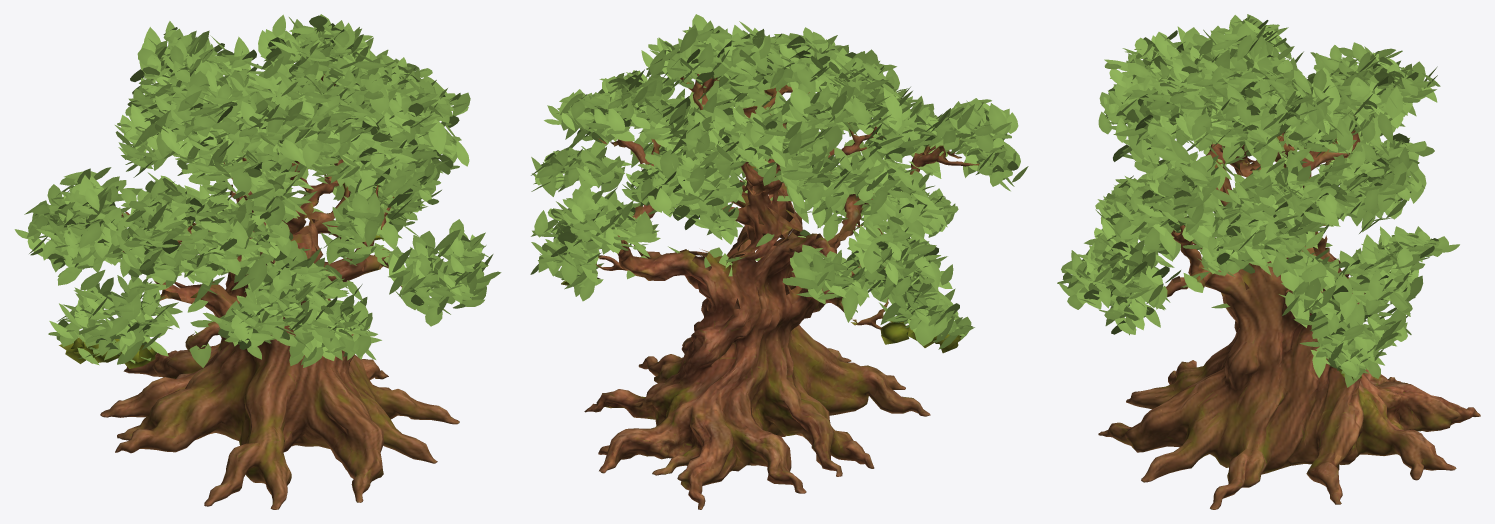
File: elder-v2.glb
3 views of the same model, side by side, from view 1: azimuth 30°, elevation 25°; view 2: azimuth 150°, elevation 25°; view 3: azimuth 270°, elevation 25° (orthographic). The views are drawn at different scales.
Bounding box in the file's own units: 0.9806 × 0.9018 × 0.8514.
Materials: 2 (1 with a texture image).
